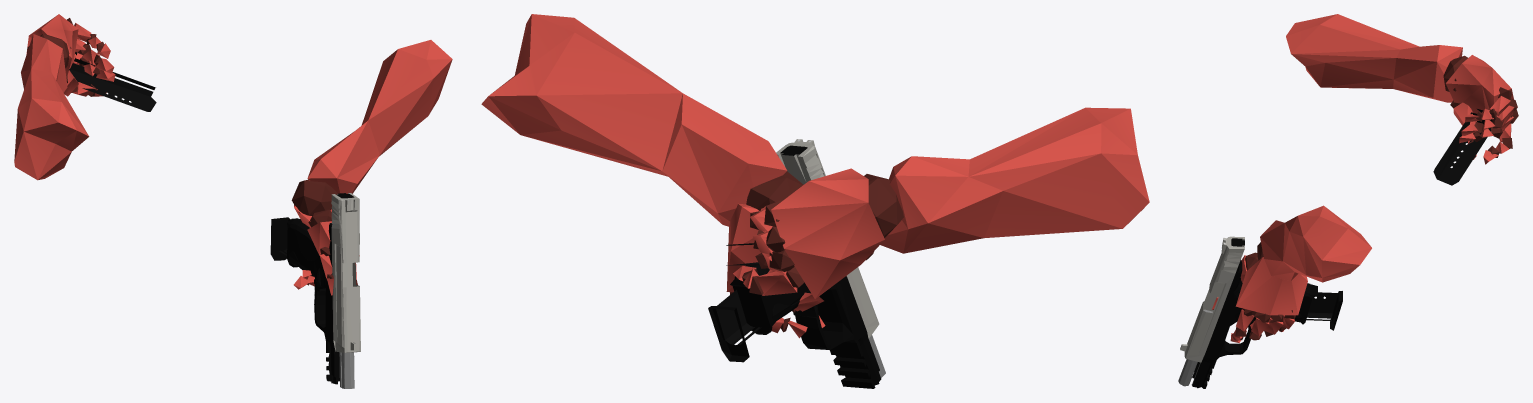
Rendered from M&P9reloadNormal1lowP_000125.obj.
The picture shows the model from 3 angles, left to right: view 1: azimuth 30°, elevation 25°; view 2: azimuth 150°, elevation 25°; view 3: azimuth 270°, elevation 25°; orthographic projection. The views are drawn at different scales.
Visible parts, largest first — view 1: Beta_Surface.001_Beta_Surface.002, slide_平面.002, triger_平面.001, Beta_Joints.001_Beta_Joints.002, magazine.002_平面.005, magazine_平面.003; view 2: Beta_Surface.001_Beta_Surface.002, triger_平面.001, Beta_Joints.001_Beta_Joints.002, slide_平面.002, magazine_平面.003; view 3: Beta_Surface.001_Beta_Surface.002, triger_平面.001, slide_平面.002, Beta_Joints.001_Beta_Joints.002, magazine.002_平面.005, magazine_平面.003.
Boxes of the visible parts, left/top/right/bottom form: Beta_Surface.001_Beta_Surface.002: left=14, top=14, right=452, bottom=295; slide_平面.002: left=331, top=193, right=360, bottom=352; triger_平面.001: left=287, top=218, right=354, bottom=388; Beta_Joints.001_Beta_Joints.002: left=27, top=18, right=357, bottom=285; magazine.002_平面.005: left=69, top=52, right=156, bottom=111; magazine_平面.003: left=270, top=217, right=290, bottom=260; Beta_Surface.001_Beta_Surface.002: left=481, top=14, right=1149, bottom=338; triger_平面.001: left=730, top=265, right=885, bottom=388; Beta_Joints.001_Beta_Joints.002: left=730, top=171, right=903, bottom=332; slide_平面.002: left=776, top=139, right=879, bottom=338; magazine_平面.003: left=708, top=289, right=761, bottom=362; Beta_Surface.001_Beta_Surface.002: left=1212, top=14, right=1514, bottom=343; triger_平面.001: left=1178, top=260, right=1317, bottom=388; slide_平面.002: left=1180, top=236, right=1244, bottom=362; Beta_Joints.001_Beta_Joints.002: left=1232, top=55, right=1518, bottom=340; magazine.002_平面.005: left=1433, top=109, right=1492, bottom=185; magazine_平面.003: left=1306, top=291, right=1342, bottom=330.
Size of the model in its own units: 101 by 66.09 by 75.97.
